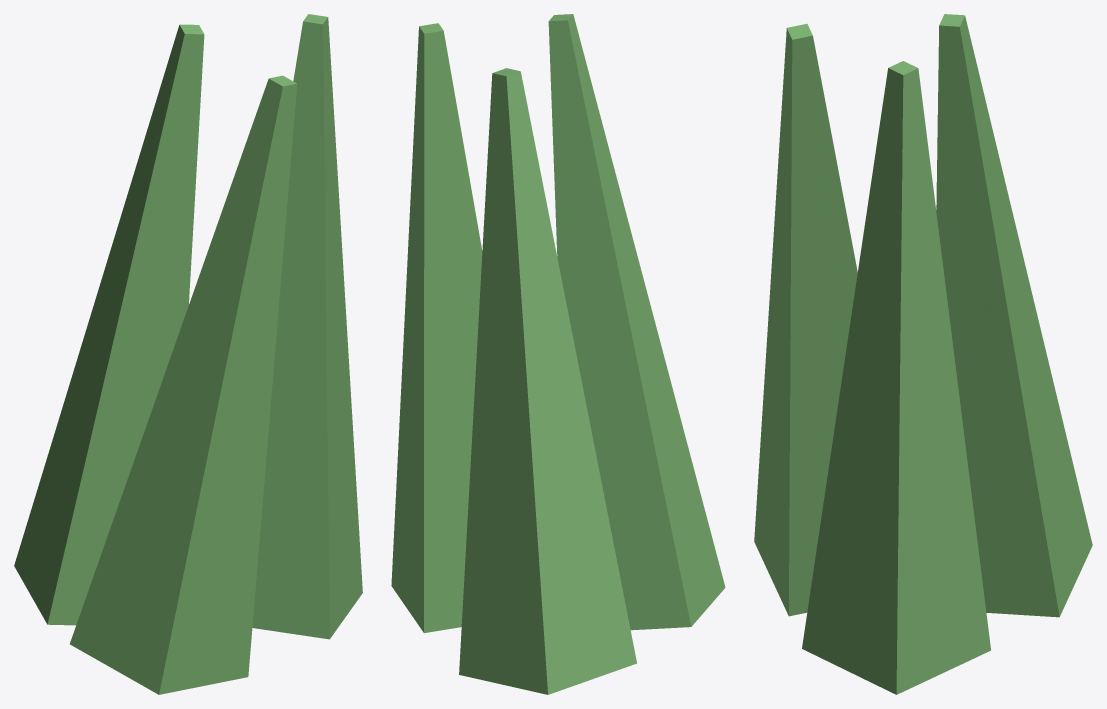
File: crop_grain_young.glb
3 renders of one model, left to right at view 1: azimuth 30°, elevation 25°; view 2: azimuth 150°, elevation 25°; view 3: azimuth 270°, elevation 25°, orthographic. The views are drawn at different scales.
Visible parts, largest first — view 1: Cone.002, Cone.001, Cone; view 2: Cone.001, Cone.002, Cone; view 3: Cone, Cone.001, Cone.002.
Part boxes in pixels (left/top/right/bottom): Cone.002: left=70, top=75, right=297, bottom=694; Cone.001: left=14, top=24, right=204, bottom=625; Cone: left=252, top=14, right=362, bottom=639; Cone.001: left=459, top=68, right=636, bottom=694; Cone.002: left=548, top=14, right=725, bottom=630; Cone: left=391, top=23, right=482, bottom=633; Cone: left=802, top=61, right=990, bottom=694; Cone.001: left=936, top=14, right=1092, bottom=617; Cone.002: left=754, top=24, right=857, bottom=616.
Size of the model in its own units: 0.1899 by 0.3563 by 0.1789.
